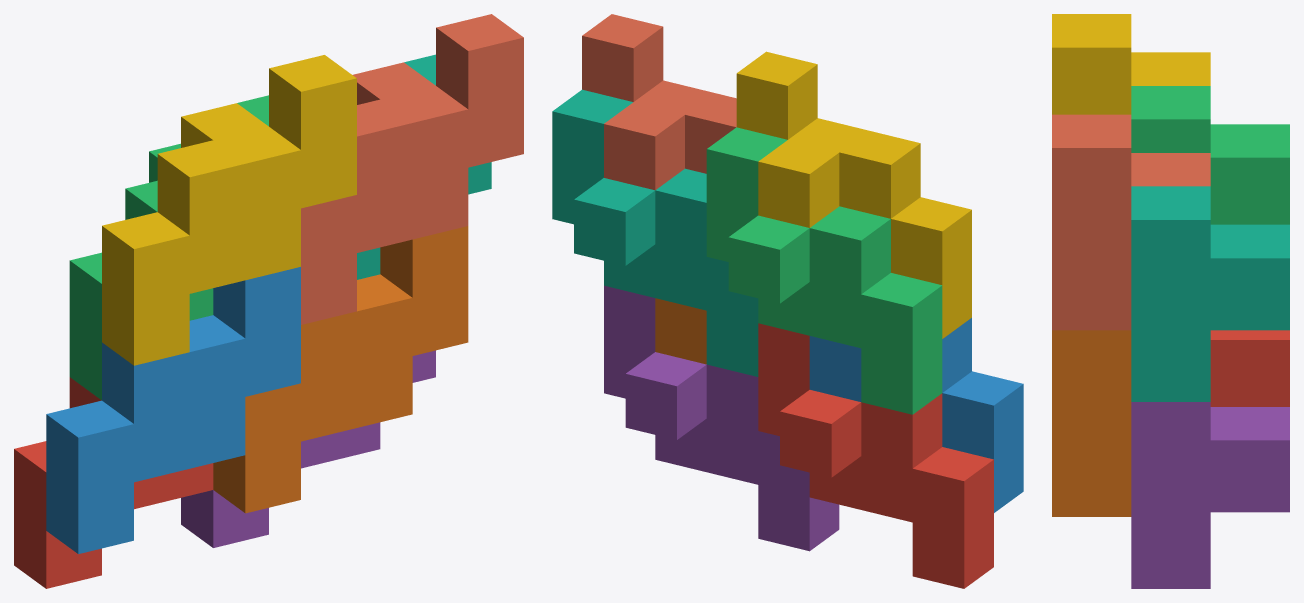
File: tiling.obj
The picture shows the model from 3 angles, left to right: view 1: azimuth 30°, elevation 25°; view 2: azimuth 150°, elevation 25°; view 3: azimuth 270°, elevation 25°; orthographic projection. The views are drawn at different scales.
Parts seen in each view (by area): view 1: copy_1_domain_4, copy_1_domain_2, copy_1_domain_8, copy_1_domain_6, copy_1_domain_1, copy_1_domain_3, copy_1_domain_5, copy_1_domain_7; view 2: copy_1_domain_3, copy_1_domain_1, copy_1_domain_4, copy_1_domain_7, copy_1_domain_5, copy_1_domain_8, copy_1_domain_2, copy_1_domain_6; view 3: copy_1_domain_7, copy_1_domain_5, copy_1_domain_8, copy_1_domain_6, copy_1_domain_3, copy_1_domain_4, copy_1_domain_1.
Part boxes in pixels (x1,y1,x2,y2): copy_1_domain_4: (102, 55, 356, 365); copy_1_domain_2: (46, 267, 300, 553); copy_1_domain_8: (301, 14, 523, 324); copy_1_domain_6: (213, 226, 468, 513); copy_1_domain_1: (14, 377, 213, 588); copy_1_domain_3: (69, 95, 268, 400); copy_1_domain_5: (181, 350, 435, 547); copy_1_domain_7: (357, 54, 491, 279); copy_1_domain_3: (706, 127, 942, 414); copy_1_domain_1: (758, 323, 993, 588); copy_1_domain_4: (736, 51, 971, 338); copy_1_domain_7: (552, 89, 758, 376); copy_1_domain_5: (604, 285, 839, 551); copy_1_domain_8: (582, 14, 736, 190); copy_1_domain_2: (809, 318, 1023, 512); copy_1_domain_6: (655, 298, 706, 364); copy_1_domain_7: (1131, 186, 1289, 401); copy_1_domain_5: (1131, 402, 1289, 588); copy_1_domain_8: (1052, 114, 1210, 330); copy_1_domain_6: (1052, 330, 1131, 516); copy_1_domain_3: (1131, 86, 1289, 224); copy_1_domain_4: (1052, 14, 1210, 114); copy_1_domain_1: (1210, 330, 1289, 406).
Bounding box in the file's own units: 8 × 8 × 3.
